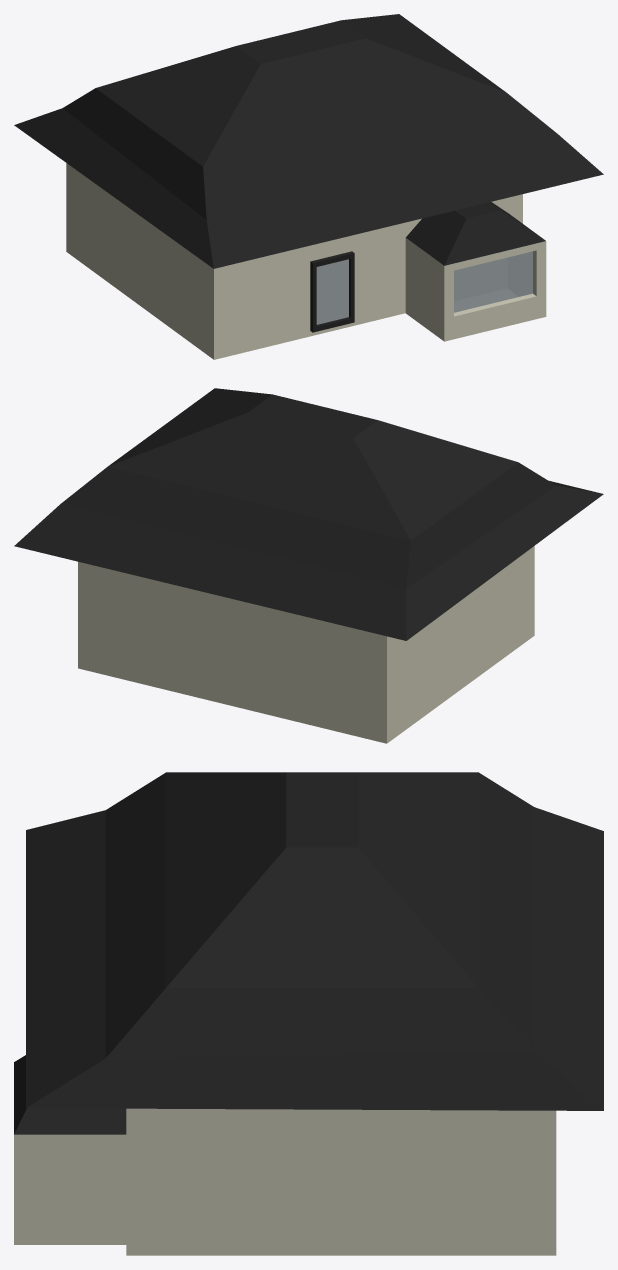
Rendered from Asset_HOuse03.fbx.
3 views of the same model, one above another, from view 1: azimuth 30°, elevation 25°; view 2: azimuth 150°, elevation 25°; view 3: azimuth 270°, elevation 25° (orthographic). The views are drawn at different scales.
Visible parts, largest first — view 1: polySurface250; view 2: polySurface250; view 3: polySurface250.
Boxes of the visible parts, x1=… form: polySurface250: x1=14, y1=14, x2=603, y2=359; polySurface250: x1=14, y1=388, x2=603, y2=743; polySurface250: x1=14, y1=772, x2=603, y2=1255.
Size of the model in its own units: 1970 by 1108 by 1763.
